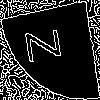Z: (24, 24, 69, 64)
